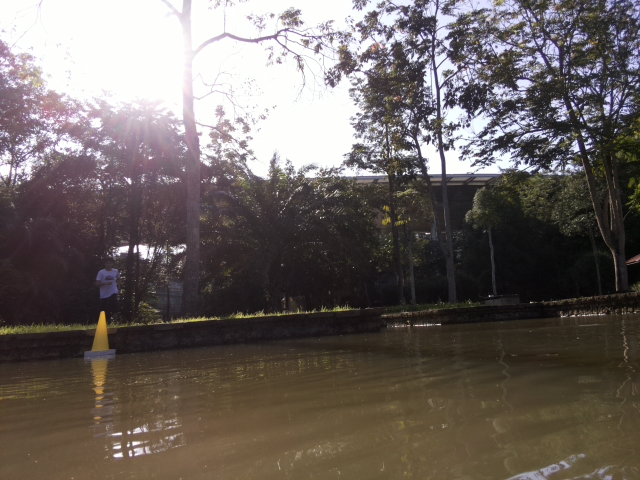checkpoint: (83, 310, 116, 358)
